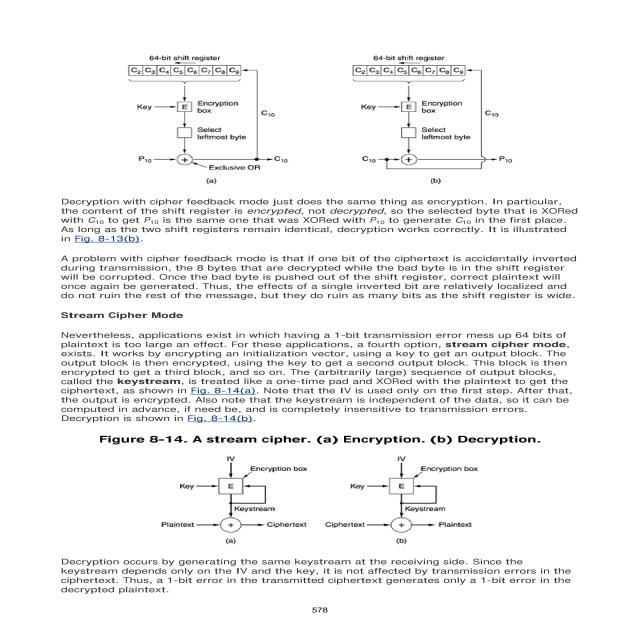diagram: (85, 429, 561, 552)
